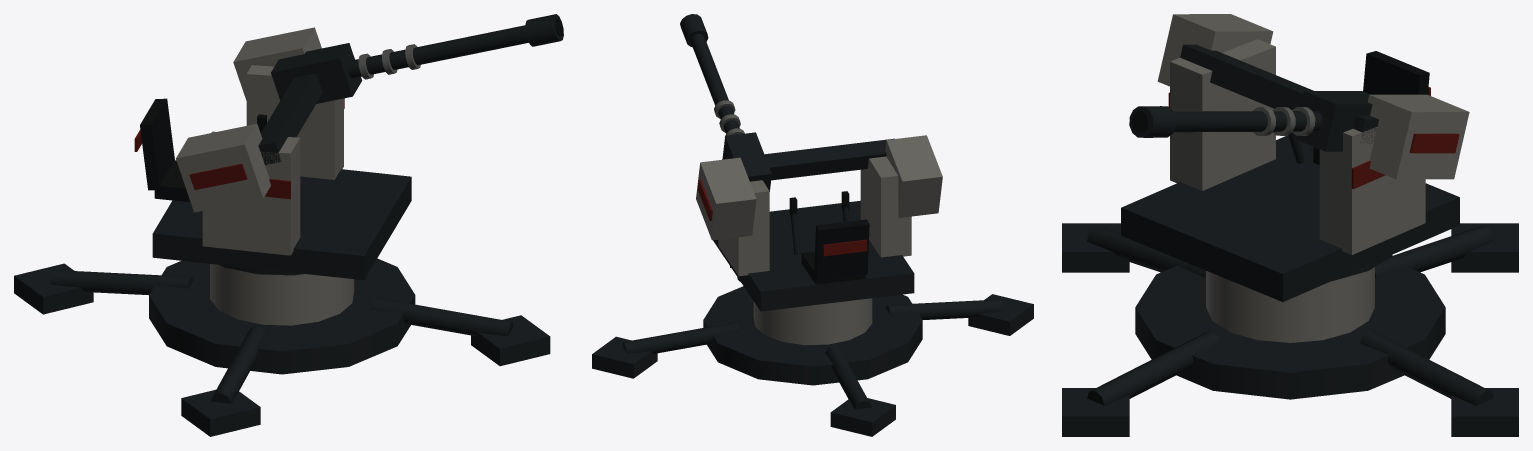
3 renders of one model, left to right at view 1: azimuth 30°, elevation 25°; view 2: azimuth 150°, elevation 25°; view 3: azimuth 270°, elevation 25°, orthographic. The views are drawn at different scales.
Visible parts, largest first — view 1: aa-gun-manned-fleet-machine, turret-fleet-machine, turret-fleet-armor, elevation-fleet-armor, aa-barrel-right-fleet-machine, aa-gun-manned-fleet-armor, turret-fleet-rubber, elevation-fleet-machine, elevation-fleet-red, aa-barrel-right-fleet-edge, turret-fleet-red; view 2: aa-gun-manned-fleet-machine, turret-fleet-machine, elevation-fleet-armor, turret-fleet-armor, aa-gun-manned-fleet-armor, aa-barrel-right-fleet-machine, turret-fleet-rubber, elevation-fleet-machine, turret-fleet-red, aa-barrel-right-fleet-edge; view 3: aa-gun-manned-fleet-machine, turret-fleet-machine, turret-fleet-armor, elevation-fleet-armor, aa-gun-manned-fleet-armor, aa-barrel-right-fleet-machine, elevation-fleet-machine, turret-fleet-rubber, aa-barrel-right-fleet-edge, elevation-fleet-red, turret-fleet-red.
Part boxes in pixels (left/top/right/bottom): aa-gun-manned-fleet-machine: left=14, top=258, right=550, bottom=436; turret-fleet-machine: left=152, top=169, right=411, bottom=280; turret-fleet-armor: left=202, top=65, right=343, bottom=255; elevation-fleet-armor: left=175, top=27, right=321, bottom=212; aa-barrel-right-fleet-machine: left=271, top=14, right=563, bottom=103; aa-gun-manned-fleet-armor: left=210, top=264, right=354, bottom=325; turret-fleet-rubber: left=140, top=98, right=266, bottom=202; elevation-fleet-machine: left=258, top=73, right=322, bottom=165; elevation-fleet-red: left=189, top=163, right=247, bottom=189; aa-barrel-right-fleet-edge: left=358, top=44, right=420, bottom=79; turret-fleet-red: left=134, top=98, right=344, bottom=199; aa-gun-manned-fleet-machine: left=592, top=266, right=1033, bottom=436; turret-fleet-machine: left=713, top=200, right=914, bottom=311; elevation-fleet-armor: left=696, top=135, right=942, bottom=240; turret-fleet-armor: left=718, top=156, right=911, bottom=276; aa-gun-manned-fleet-armor: left=753, top=298, right=872, bottom=345; aa-barrel-right-fleet-machine: left=680, top=14, right=771, bottom=191; turret-fleet-rubber: left=789, top=191, right=869, bottom=284; elevation-fleet-machine: left=722, top=138, right=894, bottom=180; turret-fleet-red: left=823, top=239, right=867, bottom=256; aa-barrel-right-fleet-edge: left=714, top=100, right=744, bottom=137; aa-gun-manned-fleet-machine: left=1062, top=223, right=1518, bottom=436; turret-fleet-machine: left=1121, top=132, right=1459, bottom=301; turret-fleet-armor: left=1170, top=39, right=1425, bottom=254; elevation-fleet-armor: left=1157, top=14, right=1469, bottom=179; aa-gun-manned-fleet-armor: left=1206, top=267, right=1374, bottom=342; aa-barrel-right-fleet-machine: left=1129, top=91, right=1372, bottom=151; elevation-fleet-machine: left=1180, top=44, right=1378, bottom=143; turret-fleet-rubber: left=1313, top=51, right=1429, bottom=164; aa-barrel-right-fleet-edge: left=1252, top=107, right=1315, bottom=135; elevation-fleet-red: left=1409, top=133, right=1459, bottom=153; turret-fleet-red: left=1168, top=87, right=1430, bottom=189.
Size of the model in its own units: 19.28 by 14.29 by 16.77.
